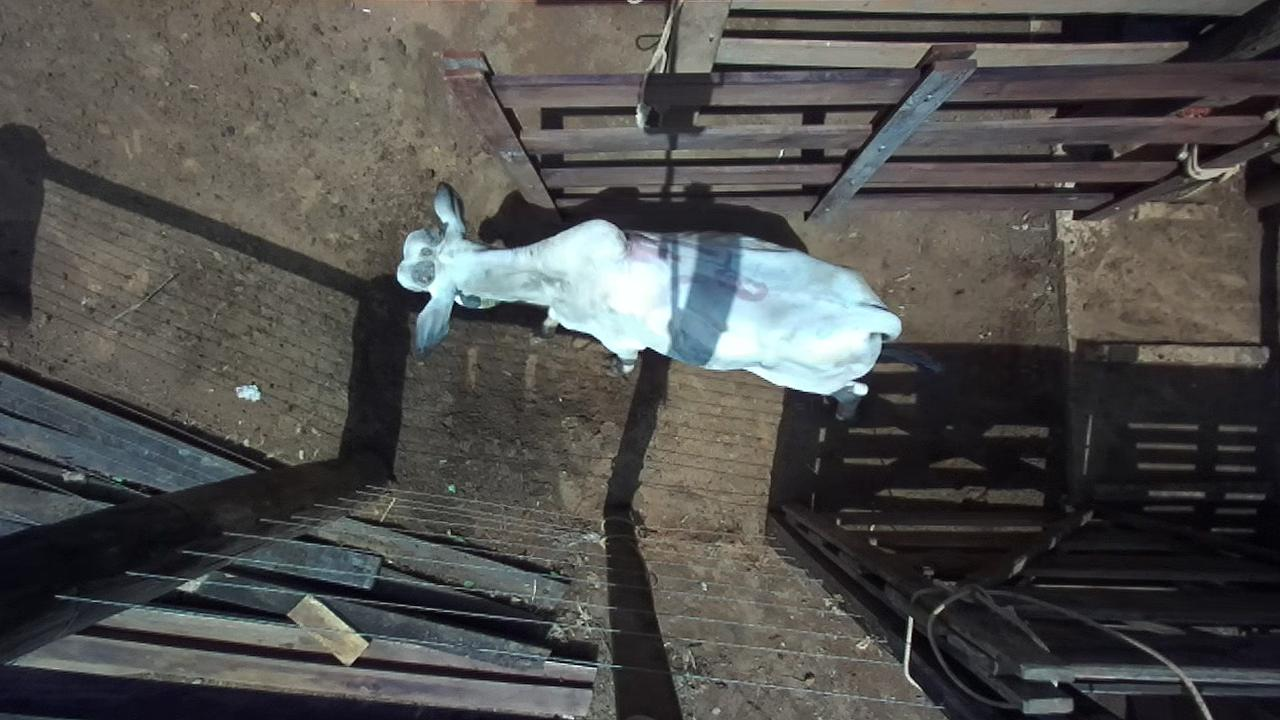cattle: (395, 179, 903, 419)
